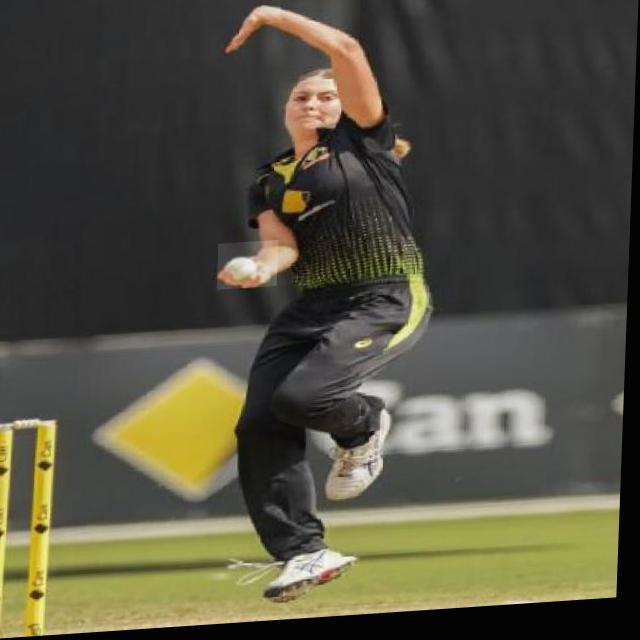-: (220, 244, 280, 293)
